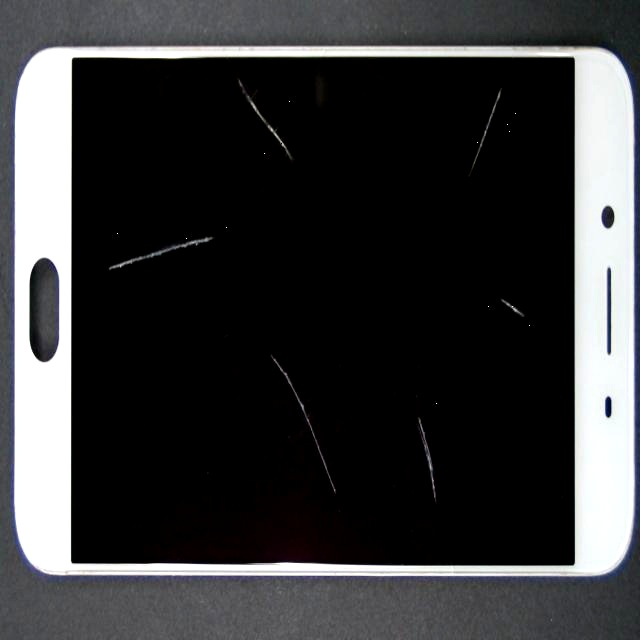scratch: (202, 252, 640, 640), (115, 205, 462, 640), (267, 126, 640, 422), (229, 81, 640, 245), (88, 14, 370, 199), (178, 86, 279, 341)
